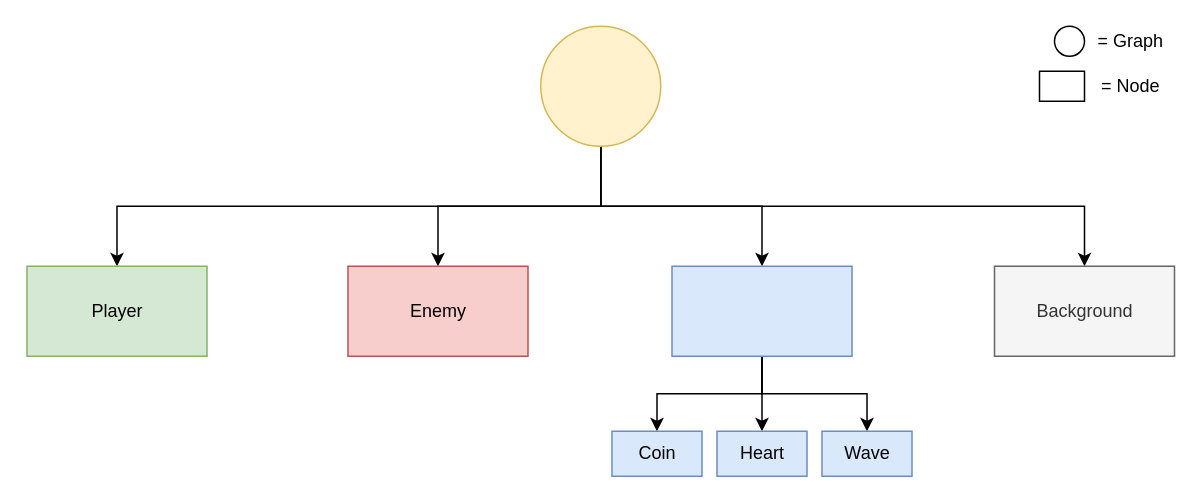
This 1200x503 diagram has some shape labels left out. Each missing label, with the centre of its shape:
"Collectible" belongs at (x=761, y=310).
"root" belongs at (x=600, y=85).
